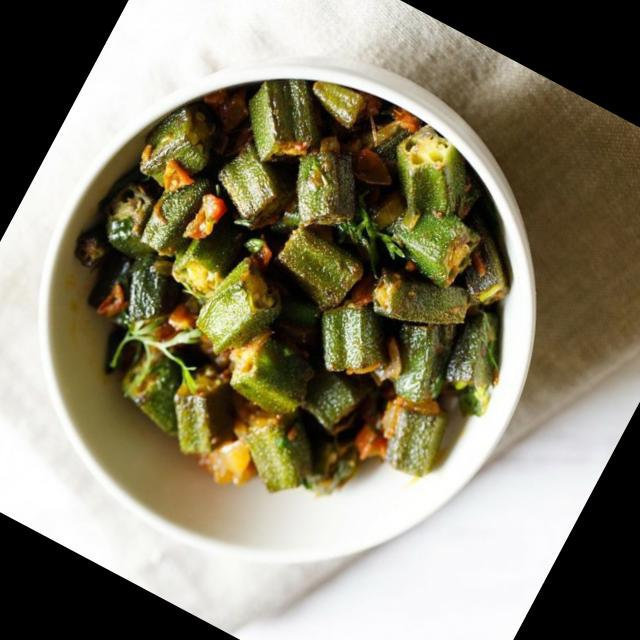BhindiMasala: (5, 2, 590, 577)
